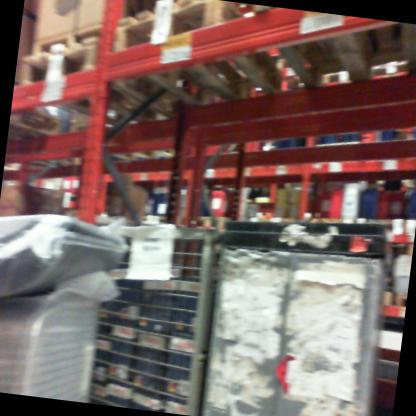pallet: (106, 0, 291, 131), (13, 38, 187, 144), (260, 7, 416, 108), (33, 6, 122, 71), (390, 283, 407, 322)
stillage: (82, 197, 244, 416)
